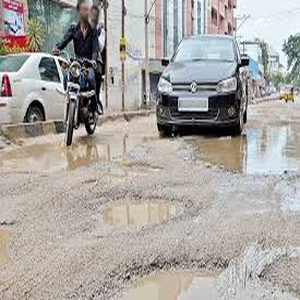pothole: (106, 255, 285, 300), (89, 190, 196, 233)
